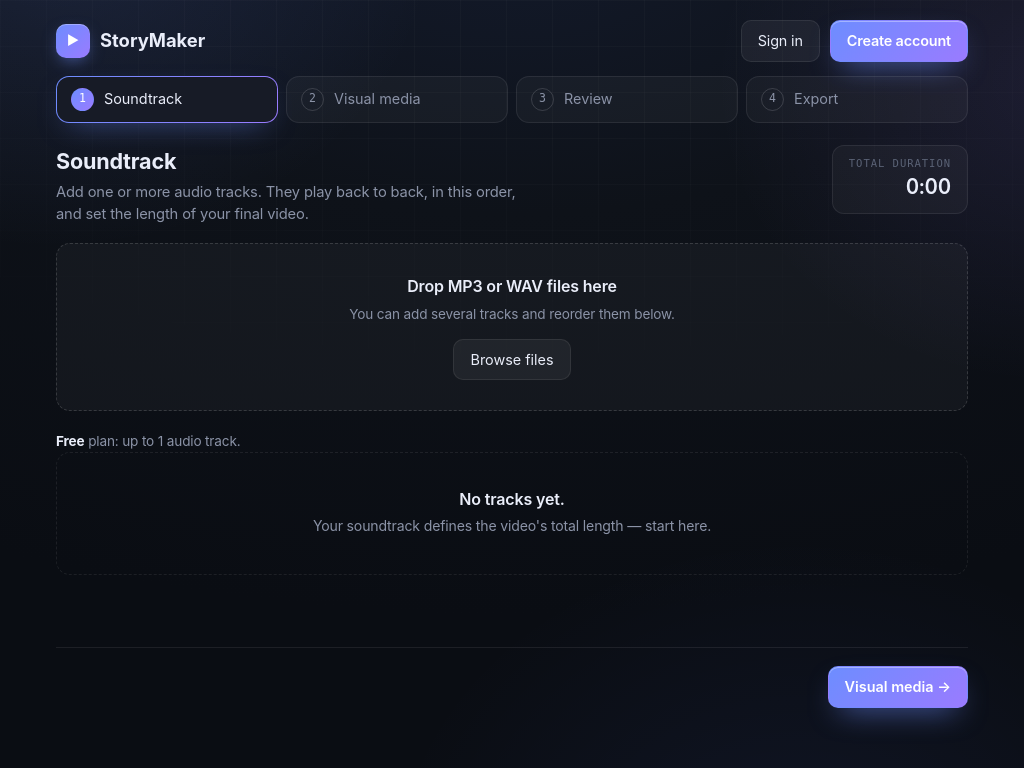
Test case: App shell › disables Generate Video on an empty project and lists blockers
What coordinates should you click on to do the following:
click the button "3 Review"
I would click on:
 (627, 99)
Its box is [516,76,738,123].
(page scrolled)
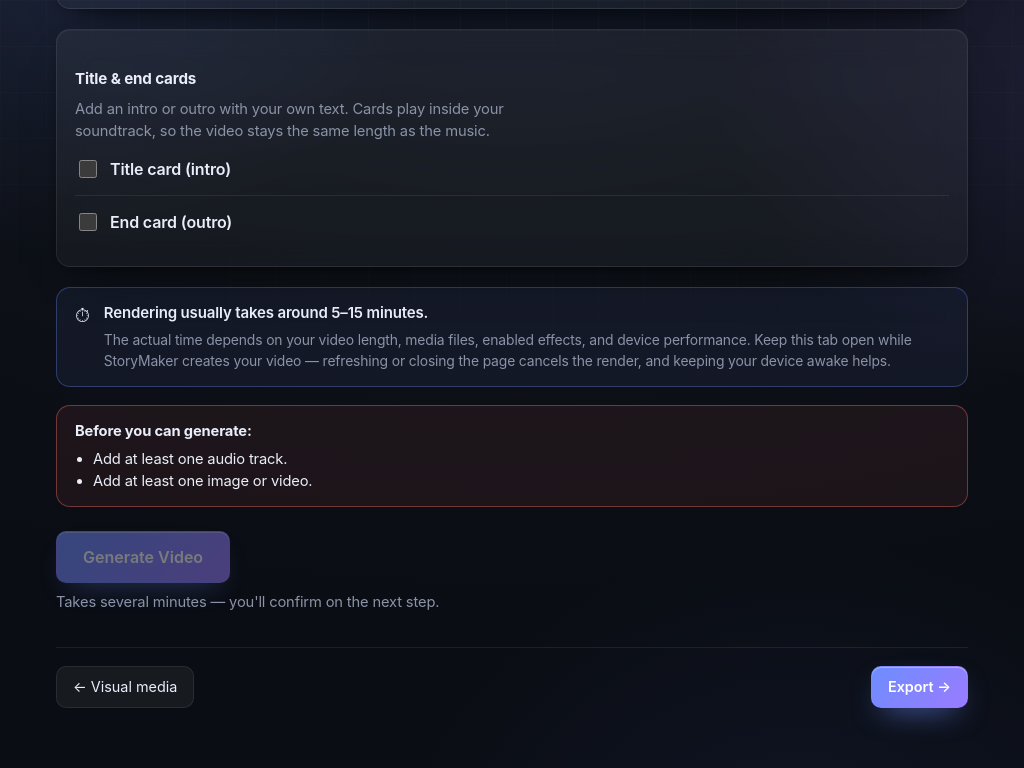
Result: the button "Generate Video" is disabled at [56,531,230,583]
Result: the message shows "at least one audio" at [93,450,287,468]
Result: the message shows "image or video" at [93,472,312,490]
